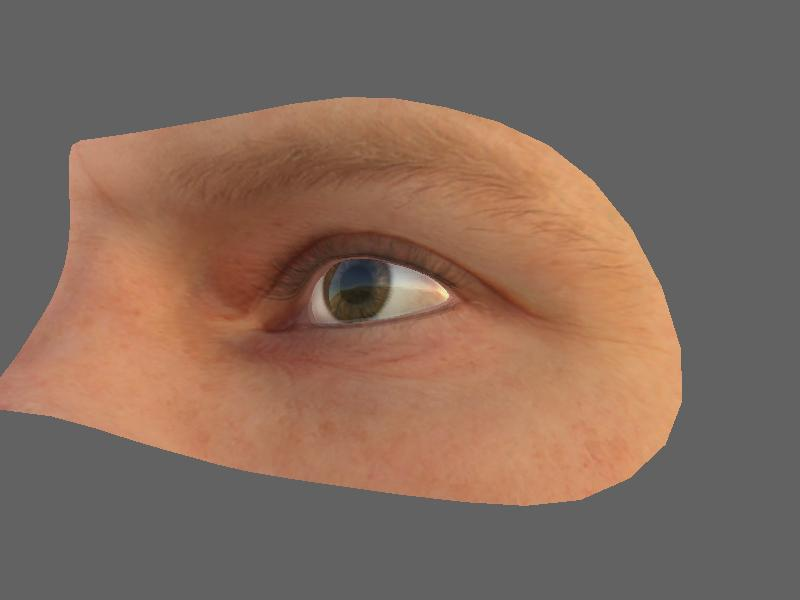iris: (319, 259, 401, 322)
